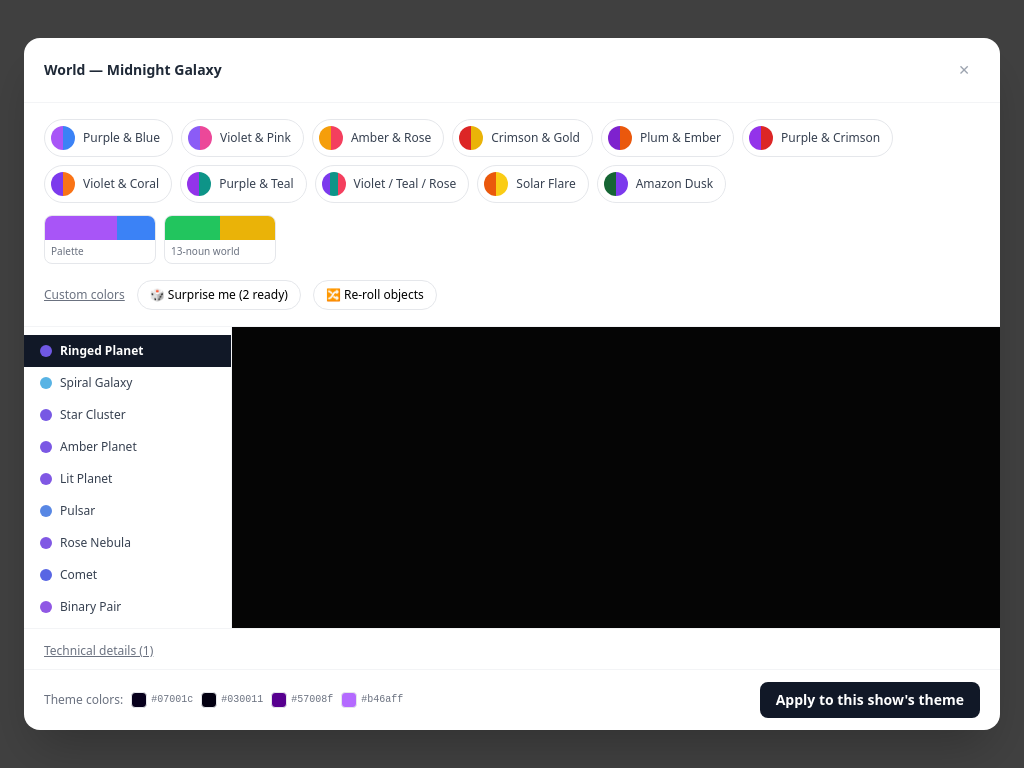
Test: WorldPaletteEditor › advisory table's hue/Δ columns describe the drawn noun at each position, not the authored noun that used to sit there (finding #3 — 'currentHues' used to always
The width and height of the screenshot is (1024, 768).
What coordinates should you click on to do the following:
click the button "13-noun world"
I would click on:
 (220, 240)
Its box is [164,215,276,264].
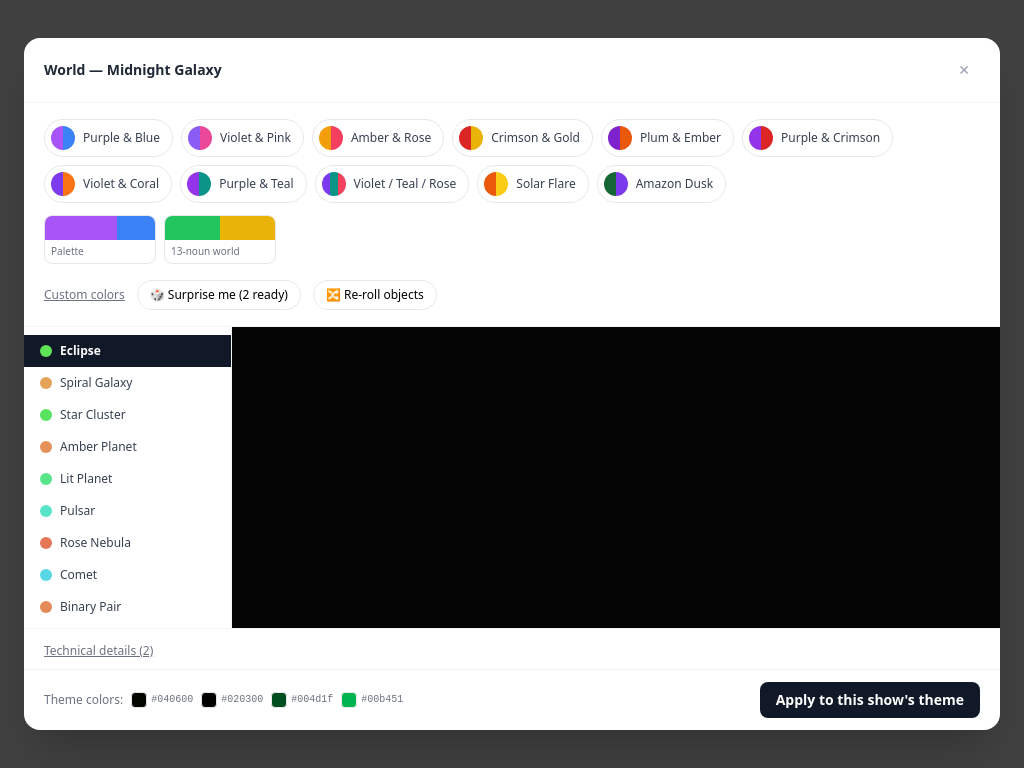
What coordinates should you click on to do the following:
click the button "Technical details (2)"
I would click on:
 (99, 651)
Its box is [44,643,153,659].
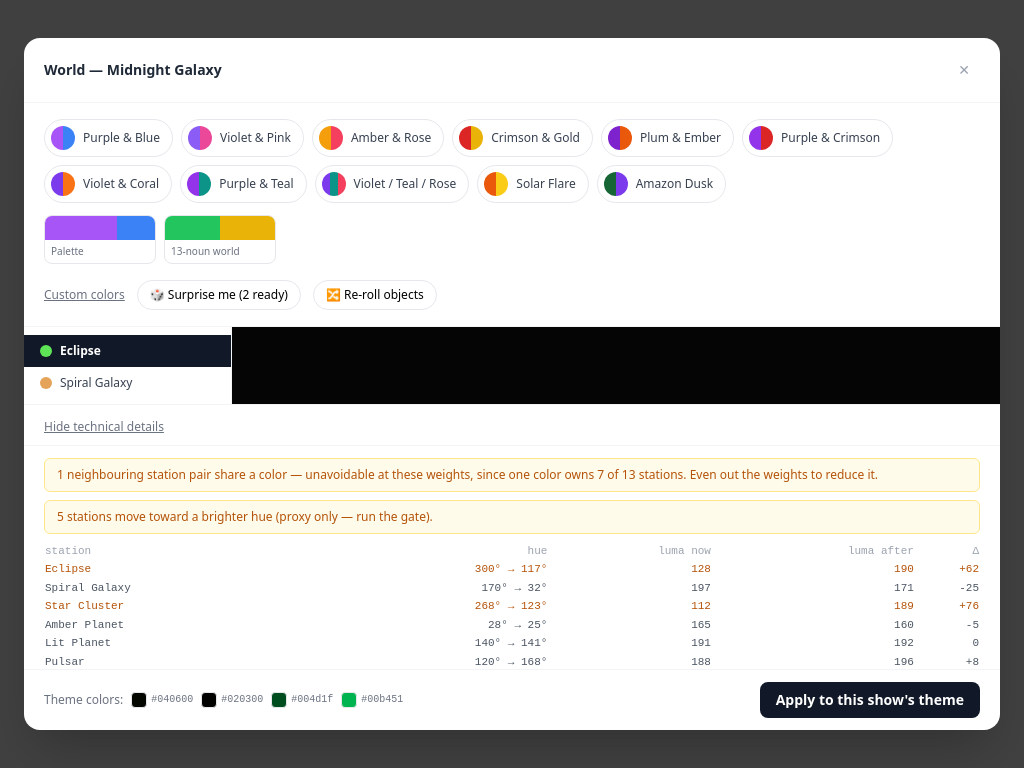
Expected: the cell "eclipse" is shown, [44,560,326,579]
